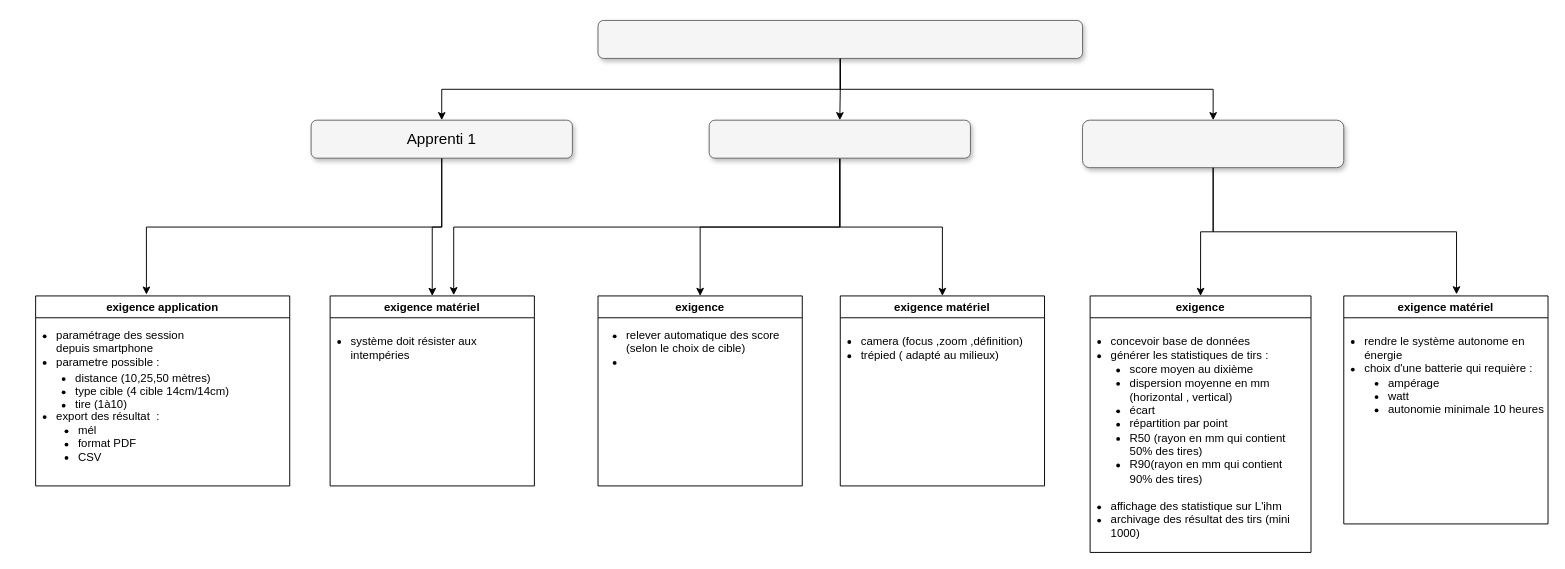
The diagram is 1565 pixels wide and 569 high, and some of its shapes have lost their labels. Here are the shapes that lost their labels. From the top down, the centre of each, then its label:
At (x=840, y=40): "Evaluation du niveau d'un tireur (target)".
At (x=840, y=140): "Apprenti 2".
At (x=1213, y=144): "Apprenti 3".
